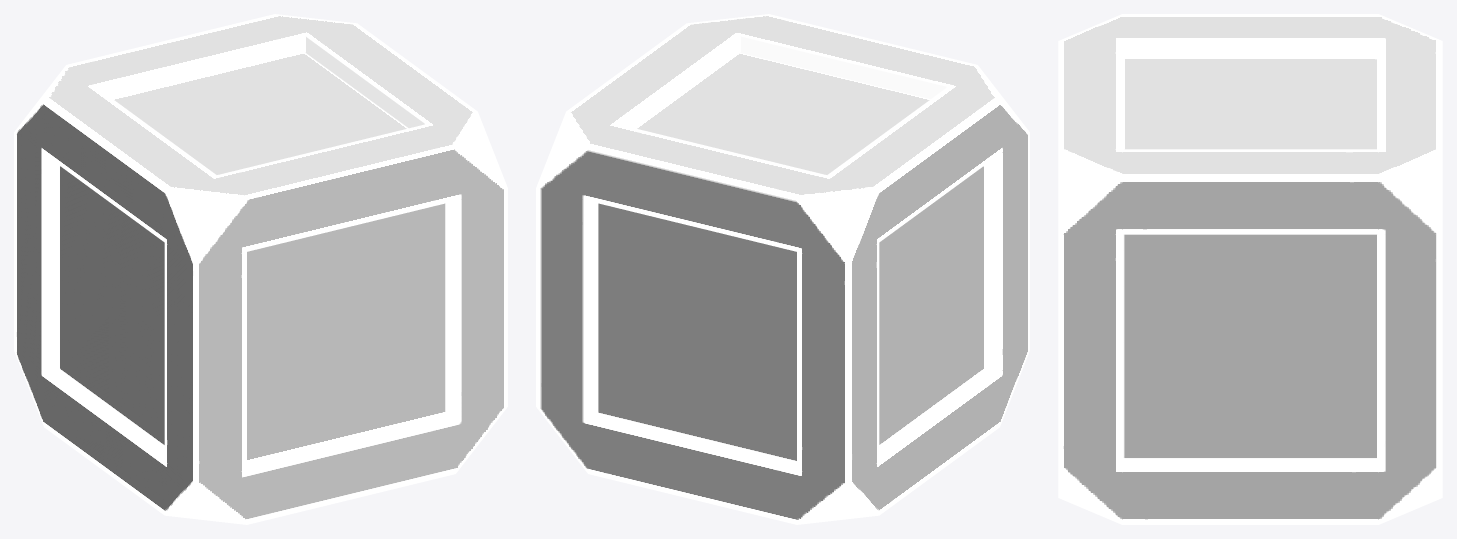
The model's file is block.gltf.
The picture shows the model from 3 angles, left to right: view 1: azimuth 30°, elevation 25°; view 2: azimuth 150°, elevation 25°; view 3: azimuth 270°, elevation 25°; orthographic projection. The views are drawn at different scales.
Visible parts, largest first — view 1: 立方体; view 2: 立方体; view 3: 立方体.
Part boxes in pixels (box(x1,y1,x2,y2)): 立方体: box(14, 14, 507, 524); 立方体: box(536, 14, 1029, 524); 立方体: box(1058, 14, 1442, 524).
Size of the model in its own units: 2 by 2 by 2.
1 material, 1 textured.
